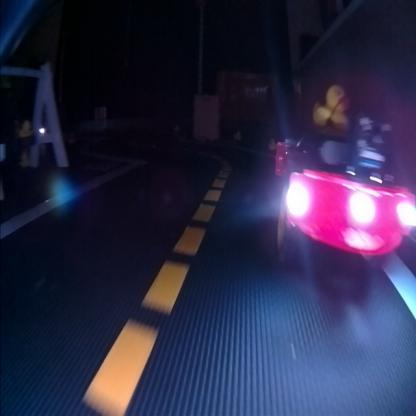Duckiebot: (276, 132, 416, 263)
